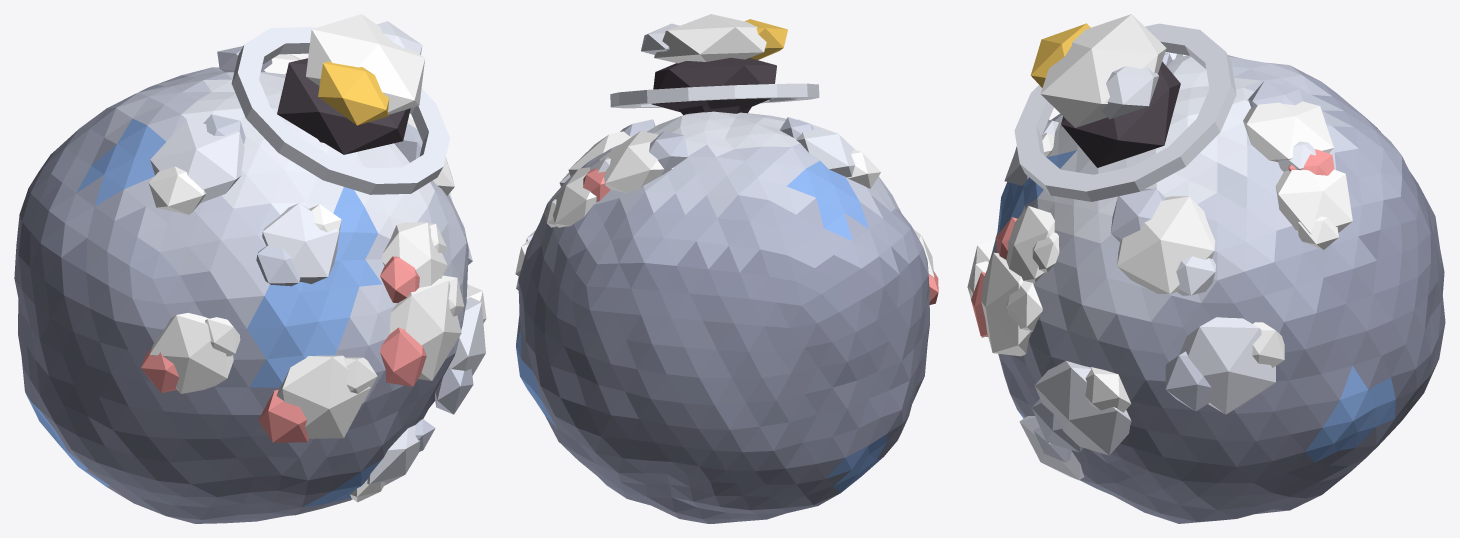
The model's file is Cloud_09.fbx.
3 views of the same model, side by side, from view 1: azimuth 30°, elevation 25°; view 2: azimuth 150°, elevation 25°; view 3: azimuth 270°, elevation 25° (orthographic). The views are drawn at different scales.
Parts seen in each view (by area): view 1: Cloud_09; view 2: Cloud_09; view 3: Cloud_09.
Part boxes in pixels (x1,y1,x2,y2): Cloud_09: (14, 14, 486, 523); Cloud_09: (515, 14, 938, 523); Cloud_09: (967, 14, 1445, 523).
Bounding box in the file's own units: 6.29 × 7.2 × 6.24.
1 material, 1 textured.
